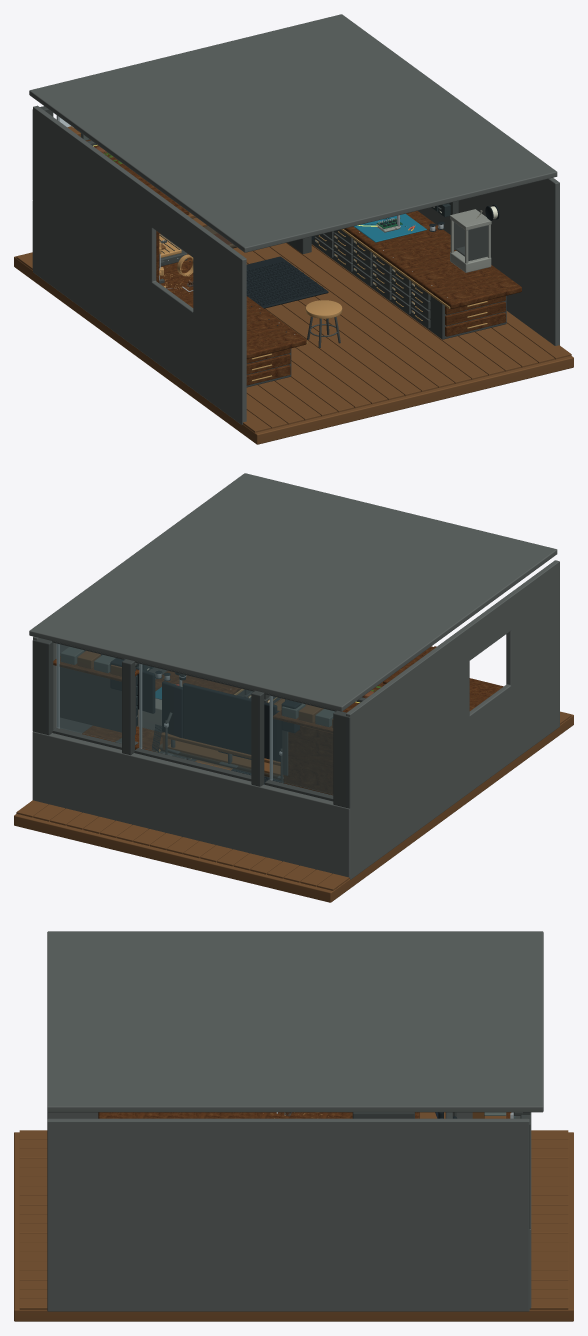
Rendered from command-center-fast.glb.
The picture shows the model from 3 angles, top to bottom: view 1: azimuth 30°, elevation 25°; view 2: azimuth 150°, elevation 25°; view 3: azimuth 270°, elevation 25°; orthographic projection. The views are drawn at different scales.
Parts seen in each view (by area): view 1: room__Warm charcoal wall, wood__Warm charcoal wall, room__Walnut · console and drawer fronts, lab__Warm charcoal wall, lab__Scanned worn wood · Poly Haven, room__Graphite powder coat, wood__Scanned worn wood · Poly Haven, room__Rubber / black plastic, room__Scanned worn wood · Poly Haven, printer__Ivory instrument plastic, printer__Graphite powder coat, lab__Blue silicone work mat (+3 smaller); view 2: room__Warm charcoal wall, wood__Warm charcoal wall, room__Walnut · console and drawer fronts, room__Optical cockpit window glass, lab__Graphite powder coat, computer__Rubber / black plastic, lab__Optical cockpit window glass, wood__Optical cockpit window glass, wood__Scanned worn wood · Poly Haven, room__Graphite powder coat, wood__Graphite powder coat, lab__Scanned worn wood · Poly Haven (+3 smaller); view 3: lab__Warm charcoal wall, room__Warm charcoal wall, room__Walnut · console and drawer fronts, wood__Scanned worn wood · Poly Haven, wood__Warm charcoal wall.
Part boxes in pixels (box(x1,y1,x2,y2)): room__Warm charcoal wall: box(29, 14, 557, 269); wood__Warm charcoal wall: box(33, 105, 246, 424); room__Walnut · console and drawer fronts: box(14, 212, 573, 444); lab__Warm charcoal wall: box(418, 178, 559, 345); lab__Scanned worn wood · Poly Haven: box(343, 211, 521, 308); room__Graphite powder coat: box(246, 229, 506, 387); wood__Scanned worn wood · Poly Haven: box(86, 139, 306, 358); room__Rubber / black plastic: box(246, 218, 390, 308); room__Scanned worn wood · Poly Haven: box(246, 296, 505, 385); printer__Ivory instrument plastic: box(450, 209, 491, 272); printer__Graphite powder coat: box(454, 222, 488, 260); lab__Blue silicone work mat: box(353, 213, 426, 242); room__Warm charcoal wall: box(29, 473, 557, 877); wood__Warm charcoal wall: box(346, 560, 559, 879); room__Walnut · console and drawer fronts: box(14, 698, 573, 902); room__Optical cockpit window glass: box(139, 664, 253, 774); lab__Graphite powder coat: box(32, 638, 185, 749); computer__Rubber / black plastic: box(162, 681, 282, 761); lab__Optical cockpit window glass: box(57, 643, 125, 743); wood__Optical cockpit window glass: box(270, 695, 335, 794); wood__Scanned worn wood · Poly Haven: box(273, 646, 503, 795); room__Graphite powder coat: box(122, 659, 286, 786); wood__Graphite powder coat: box(265, 693, 365, 808); lab__Scanned worn wood · Poly Haven: box(53, 656, 241, 751); lab__Warm charcoal wall: box(47, 1118, 529, 1311); room__Warm charcoal wall: box(47, 931, 543, 1308); room__Walnut · console and drawer fronts: box(14, 1112, 573, 1321); wood__Scanned worn wood · Poly Haven: box(98, 1112, 419, 1118); wood__Warm charcoal wall: box(47, 1112, 513, 1118).
Bounding box in the file's own units: 7.62 × 4.26 × 10.1.
Materials: 34 (9 with a texture image).
